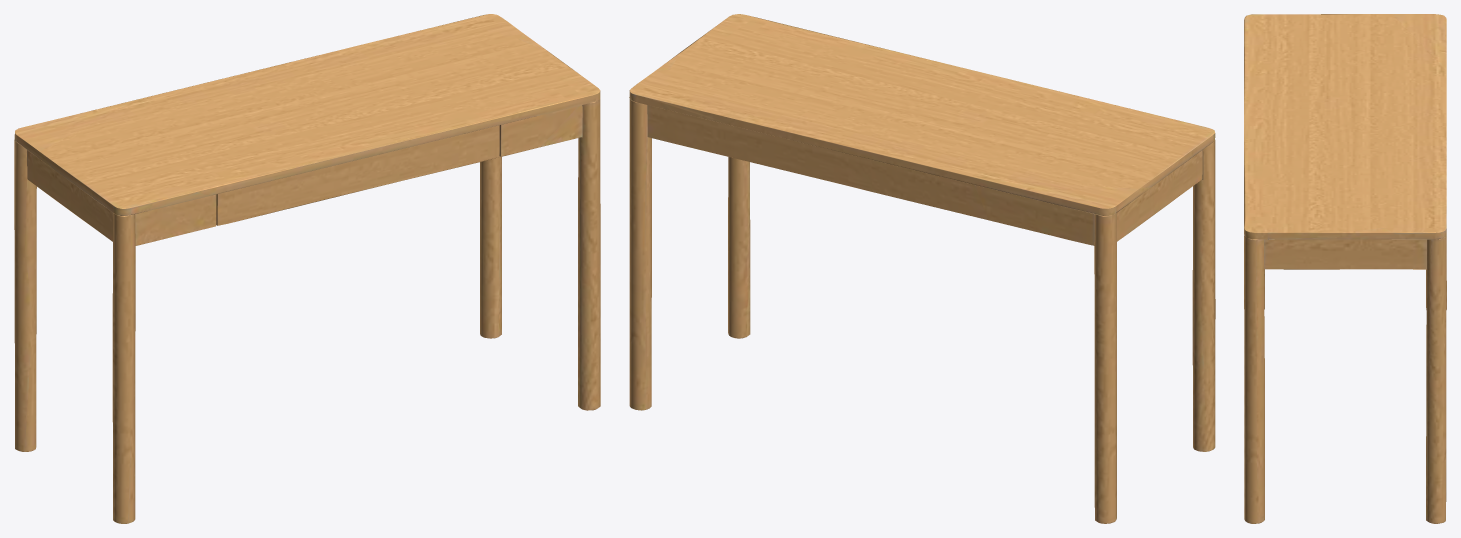
The model's file is LB-BR-DESK-02.glb.
The picture shows the model from 3 angles, left to right: view 1: azimuth 30°, elevation 25°; view 2: azimuth 150°, elevation 25°; view 3: azimuth 270°, elevation 25°; orthographic projection. The views are drawn at different scales.
Parts seen in each view (by area): view 1: ASY_ART_60538205_S01_NV01; view 2: ASY_ART_60538205_S01_NV01; view 3: ASY_ART_60538205_S01_NV01.
Boxes of the visible parts, bbox=[...] form: ASY_ART_60538205_S01_NV01: bbox=[14, 14, 600, 523]; ASY_ART_60538205_S01_NV01: bbox=[629, 14, 1215, 523]; ASY_ART_60538205_S01_NV01: bbox=[1244, 14, 1446, 523].
Size of the model in its own units: 1.2 by 0.7505 by 0.4706.
1 material, 1 textured.
